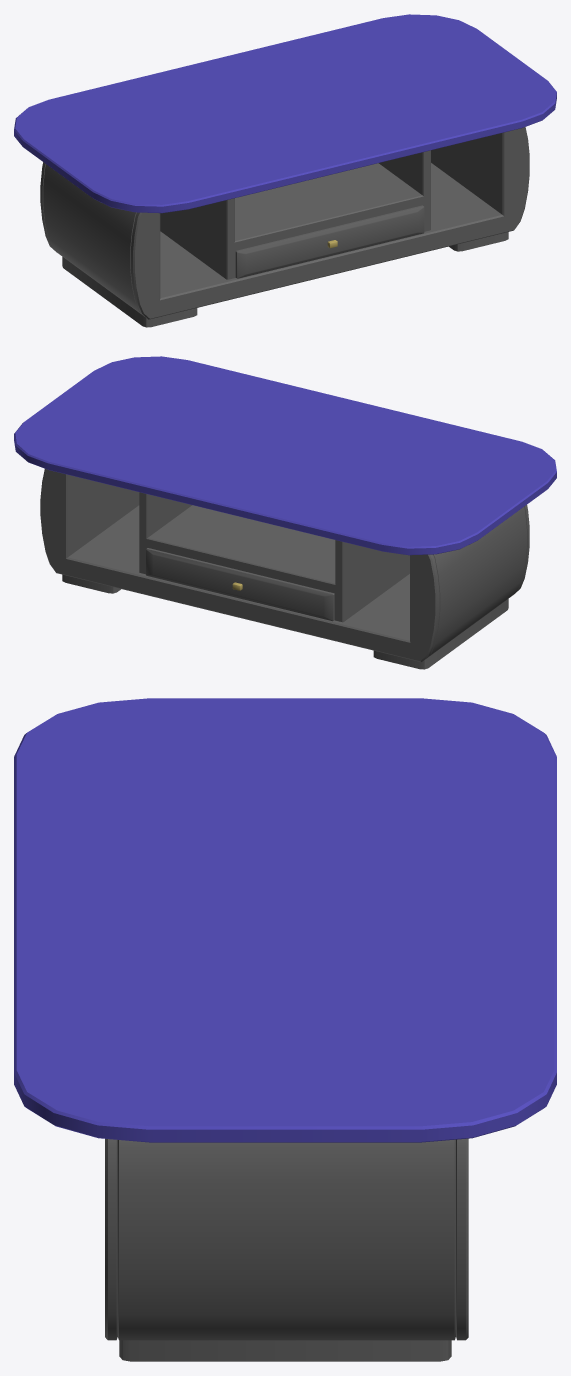
The picture shows the model from 3 angles, top to bottom: view 1: azimuth 30°, elevation 25°; view 2: azimuth 150°, elevation 25°; view 3: azimuth 270°, elevation 25°; orthographic projection. The views are drawn at different scales.
Parts seen in each view (by area): view 1: N0115; view 2: N0115; view 3: N0115.
Boxes of the visible parts, box(x1,y1,x2,y2) form: N0115: box(14, 14, 556, 327); N0115: box(14, 356, 556, 669); N0115: box(14, 698, 556, 1361).
Bounding box in the file's own units: 150 × 80 × 45.
